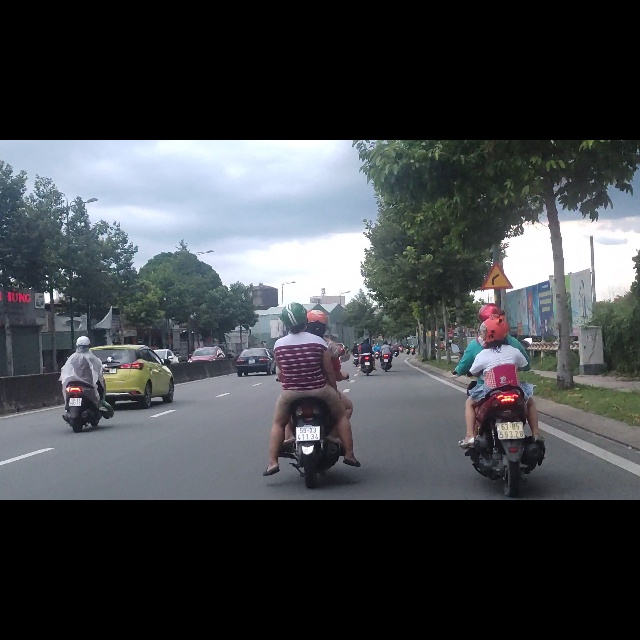bien_nguy_hiem: (480, 216, 514, 268)
